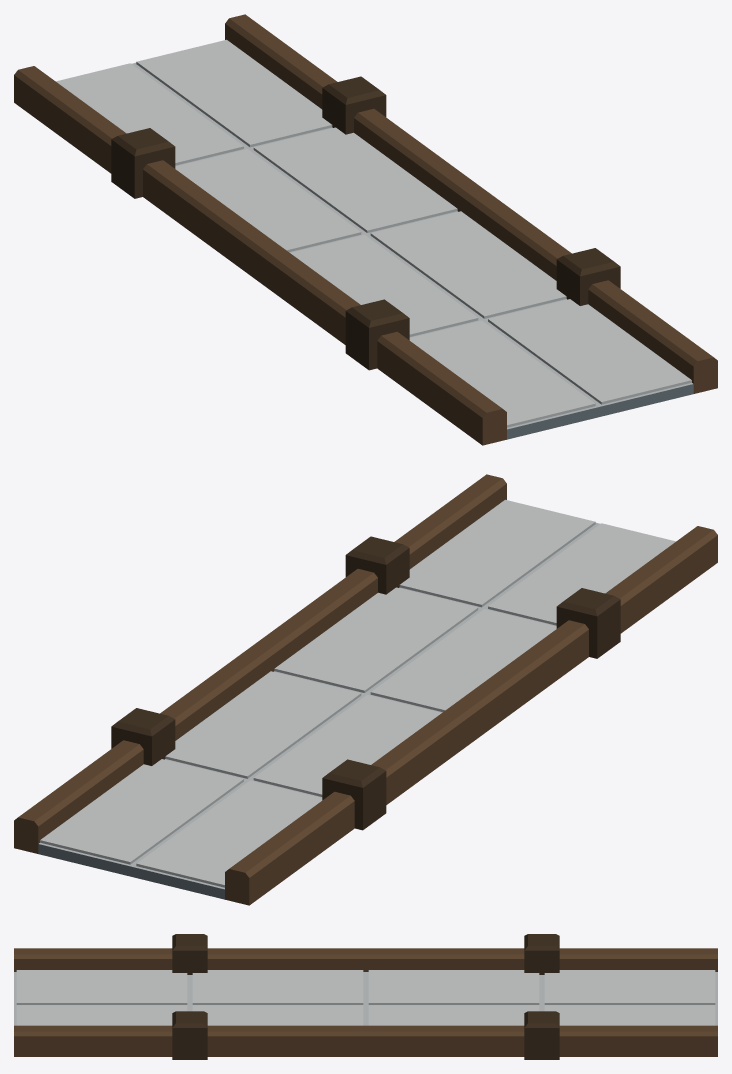
Rendered from front-walk-path-run-03f90b.glb.
3 views of the same model, one above another, from view 1: azimuth 30°, elevation 25°; view 2: azimuth 150°, elevation 25°; view 3: azimuth 270°, elevation 25° (orthographic). The views are drawn at different scales.
Visible parts, largest first — view 1: walk-run; view 2: walk-run; view 3: walk-run.
Part boxes in pixels (left/top/right/bottom): walk-run: left=14, top=14, right=717, bottom=445; walk-run: left=14, top=474, right=717, bottom=905; walk-run: left=14, top=934, right=717, bottom=1059.
Size of the model in its own units: 1.24 by 0.22 by 4.
